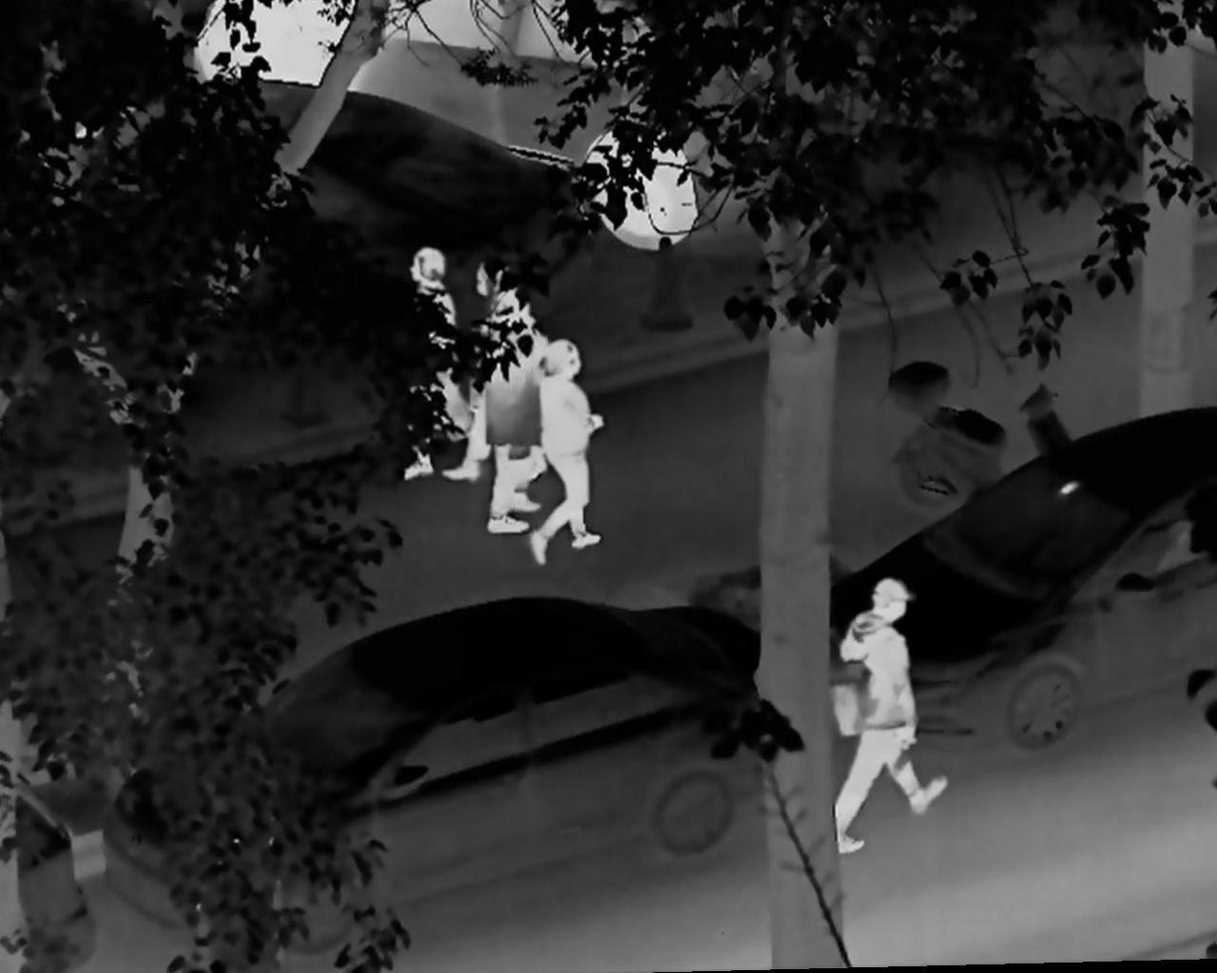person: (830, 574, 950, 858), (391, 247, 490, 485), (445, 264, 548, 487), (525, 336, 608, 561), (485, 315, 545, 542)
